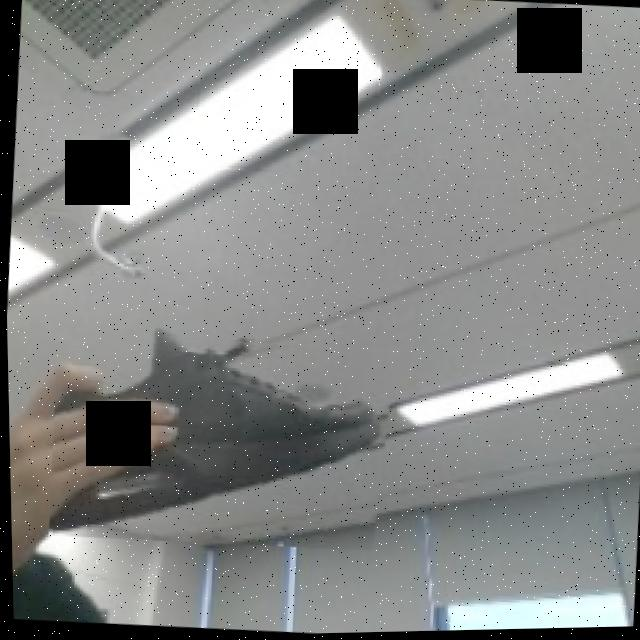shoe: (42, 322, 398, 559)
